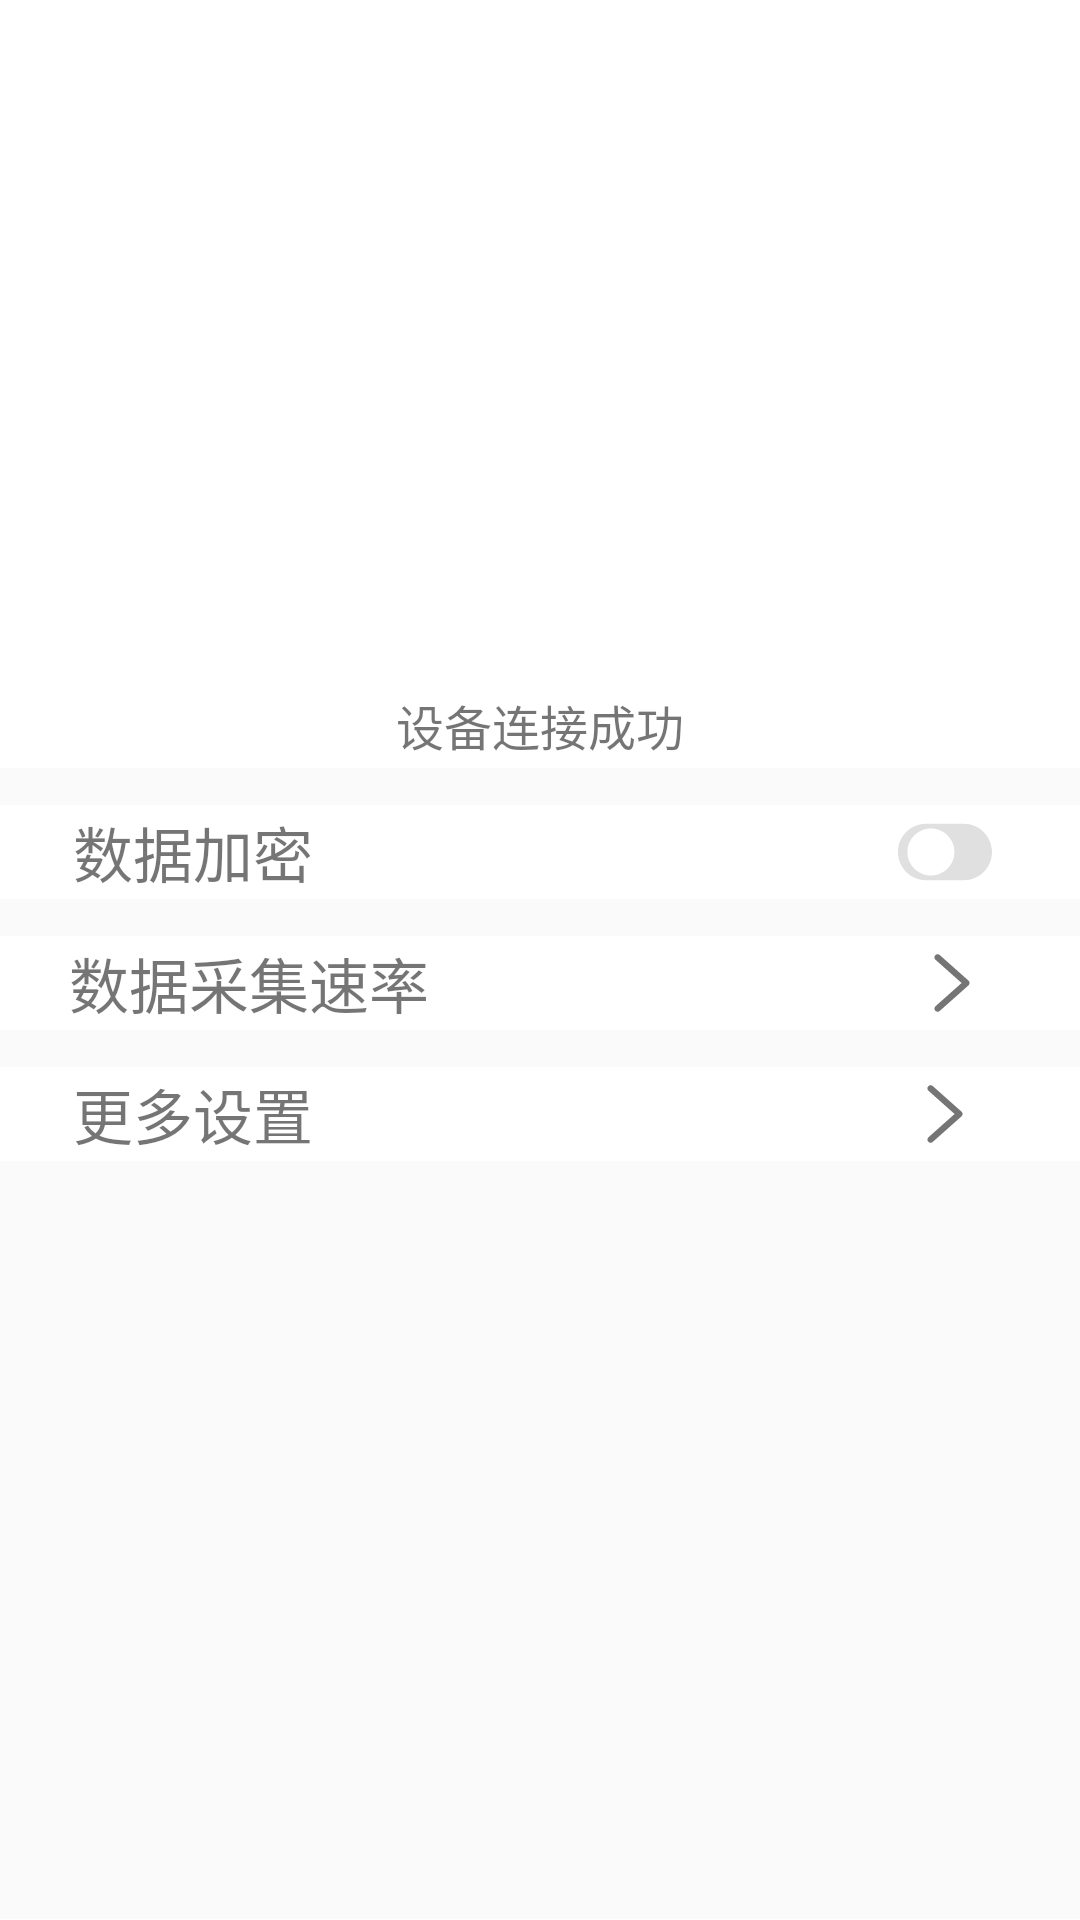

Icons on this 1080 x 1920 Android screen, each with the point to tap as (x,y):
right arrow: (952,983), (945,1114)
switch close: (945,852)
